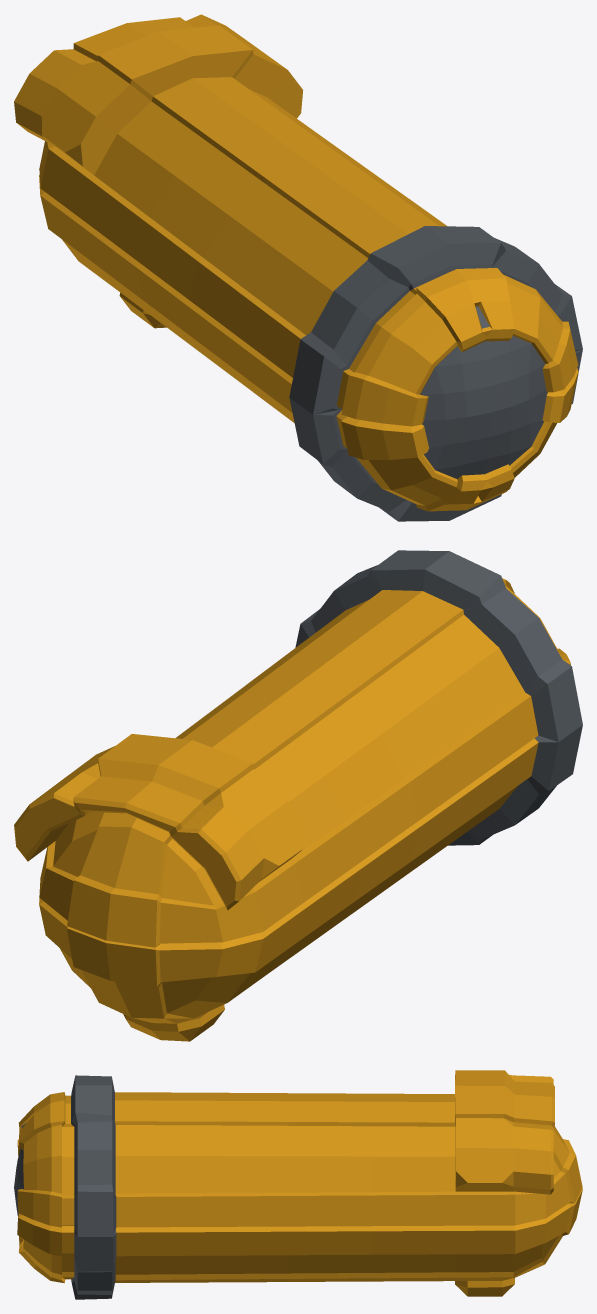
The model's file is Fighter_03_Base_Yellow.fbx.
The picture shows the model from 3 angles, top to bottom: view 1: azimuth 30°, elevation 25°; view 2: azimuth 150°, elevation 25°; view 3: azimuth 270°, elevation 25°; orthographic projection. The views are drawn at different scales.
Parts seen in each view (by area): view 1: Fighter_03_Base_Yellow; view 2: Fighter_03_Base_Yellow; view 3: Fighter_03_Base_Yellow.
Boxes of the visible parts, left/top/right/bottom form: Fighter_03_Base_Yellow: left=14, top=14, right=582, bottom=521; Fighter_03_Base_Yellow: left=14, top=550, right=582, bottom=1041; Fighter_03_Base_Yellow: left=14, top=1070, right=582, bottom=1299.
Size of the model in its own units: 311 by 306 by 769.
Materials: 2 (2 with a texture image).
